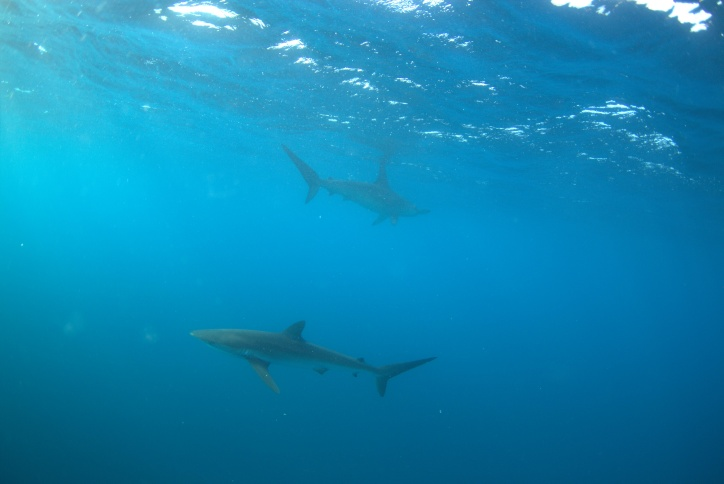Sedoso: (160, 304, 442, 411)
